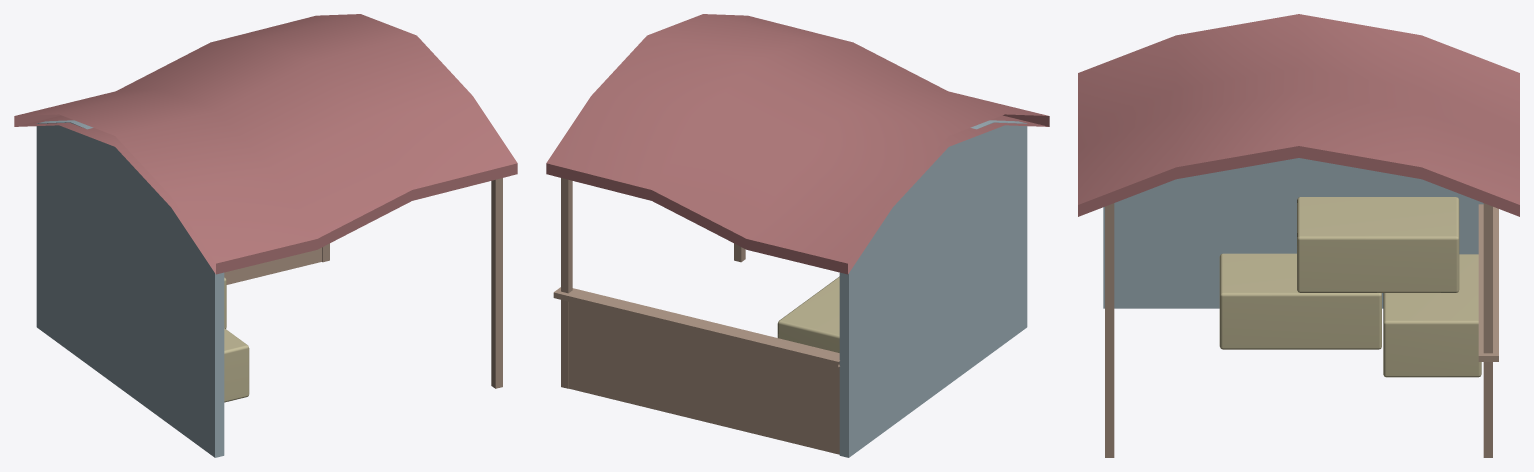
Rendered from Granero.fbx.
3 renders of one model, left to right at view 1: azimuth 30°, elevation 25°; view 2: azimuth 150°, elevation 25°; view 3: azimuth 270°, elevation 25°, orthographic. The views are drawn at different scales.
Visible parts, largest first — view 1: pCube1, pCube2, pCube5, pCube7, pCube3; view 2: pCube1, pCube2, pCube3, pCube8, pCube5; view 3: pCube1, pCube2, pCube8, pCube7, pCube6, pCube5, pCube3.
Part boxes in pixels (bbox=[...]): pCube1: bbox=[14, 14, 517, 274]; pCube2: bbox=[36, 120, 224, 457]; pCube5: bbox=[322, 178, 502, 388]; pCube7: bbox=[224, 328, 249, 402]; pCube3: bbox=[224, 247, 321, 284]; pCube1: bbox=[546, 14, 1049, 274]; pCube2: bbox=[839, 120, 1027, 457]; pCube3: bbox=[553, 287, 839, 454]; pCube8: bbox=[777, 276, 839, 352]; pCube5: bbox=[561, 178, 745, 388]; pCube1: bbox=[1078, 14, 1519, 216]; pCube2: bbox=[1103, 158, 1483, 308]; pCube8: bbox=[1297, 197, 1459, 292]; pCube7: bbox=[1219, 253, 1381, 349]; pCube6: bbox=[1383, 254, 1481, 377]; pCube5: bbox=[1105, 203, 1492, 457]; pCube3: bbox=[1478, 204, 1498, 361].
Bounding box in the file's own units: 5.86 × 5.27 × 6.73.
